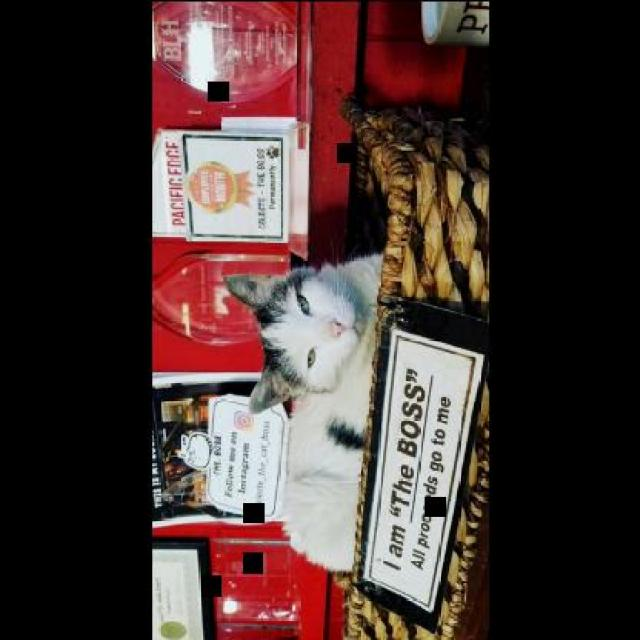unauthorized: (222, 251, 383, 572)
